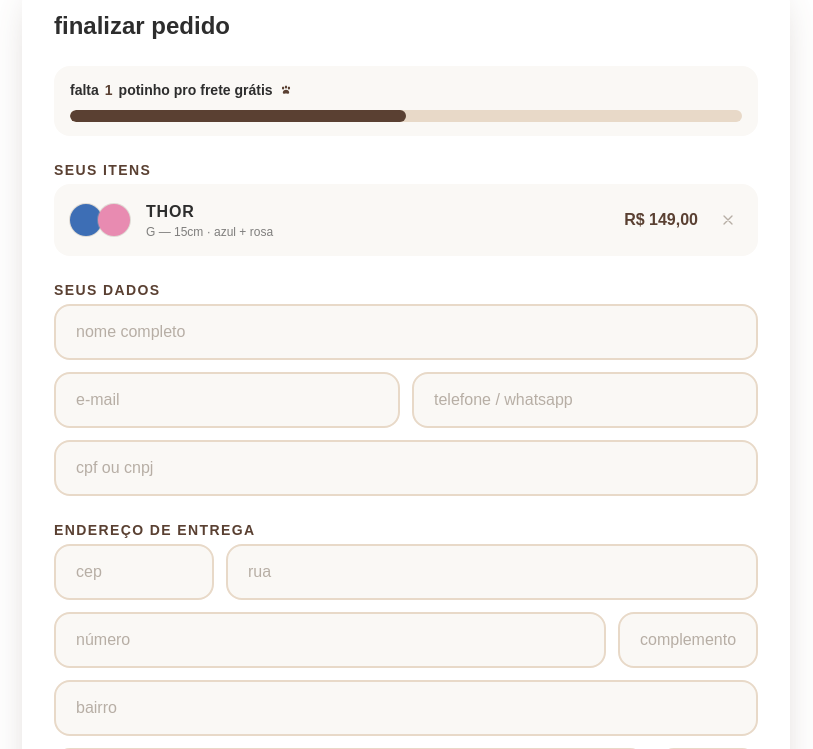
Test: CheckoutForm — com itens › remover item some da lista e zera o total (sem frete cotado)
This screenshot has width=813, height=749.
Check: the text "THOR" is shown, box [146, 203, 194, 220]
Step 1. Click the button with test id "checkout-remove-item" → (728, 220), box [714, 206, 742, 234]
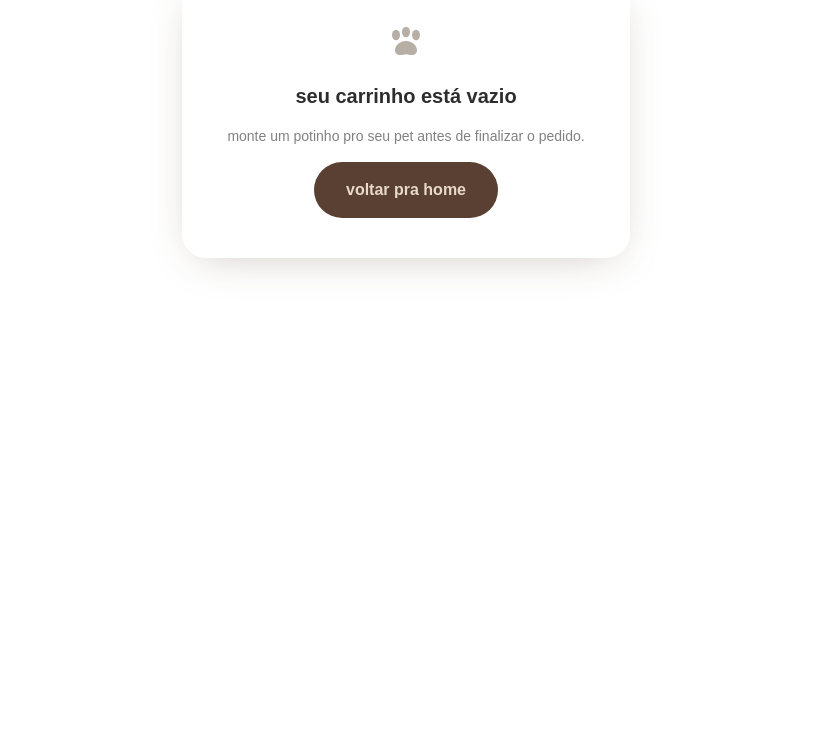
Check: the text "THOR" is gone
